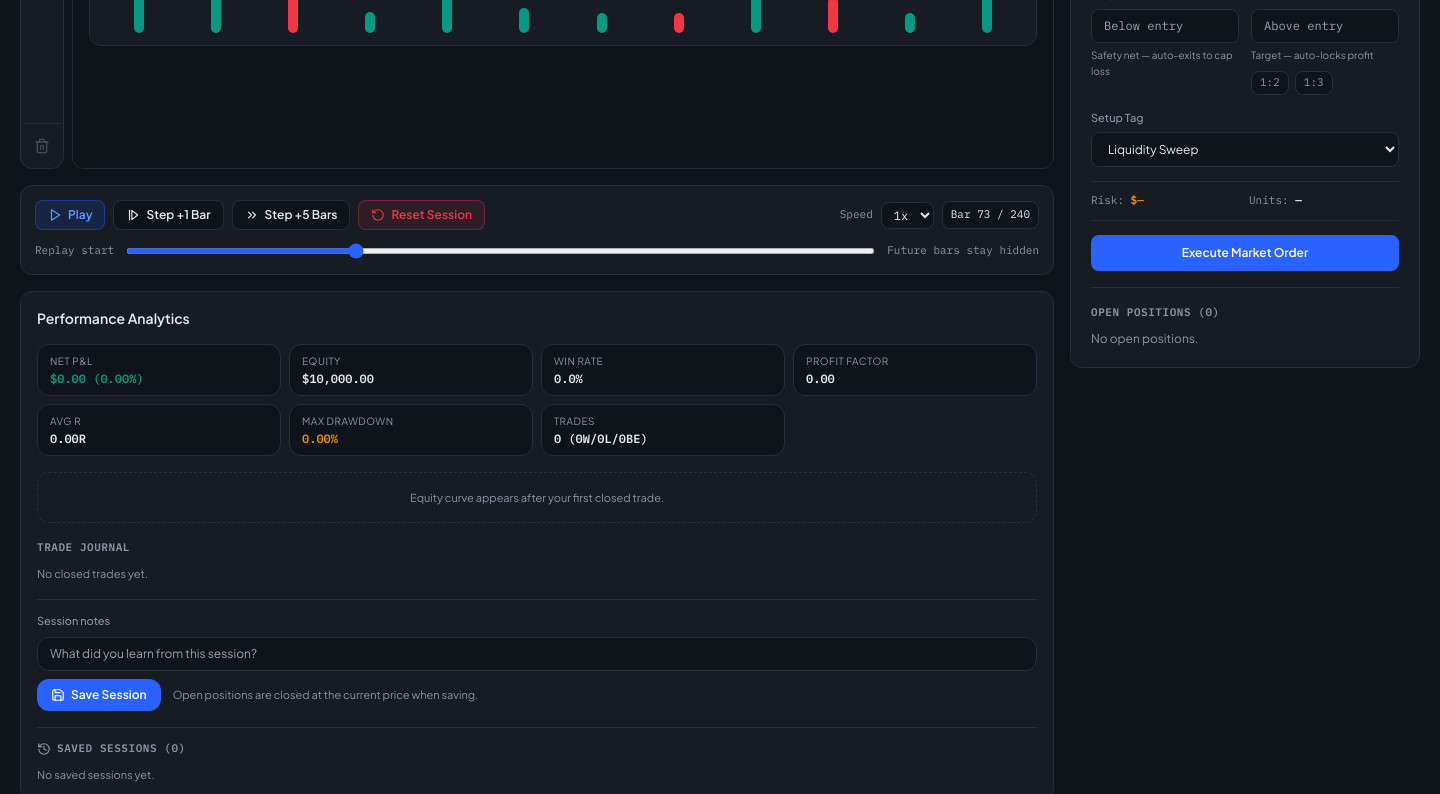
Test case: BacktestPage › refuses to save a session with no trades
(page scrolled)
Click the button "Save Session" at [99, 695], box left=37, top=679, right=161, bottom=711
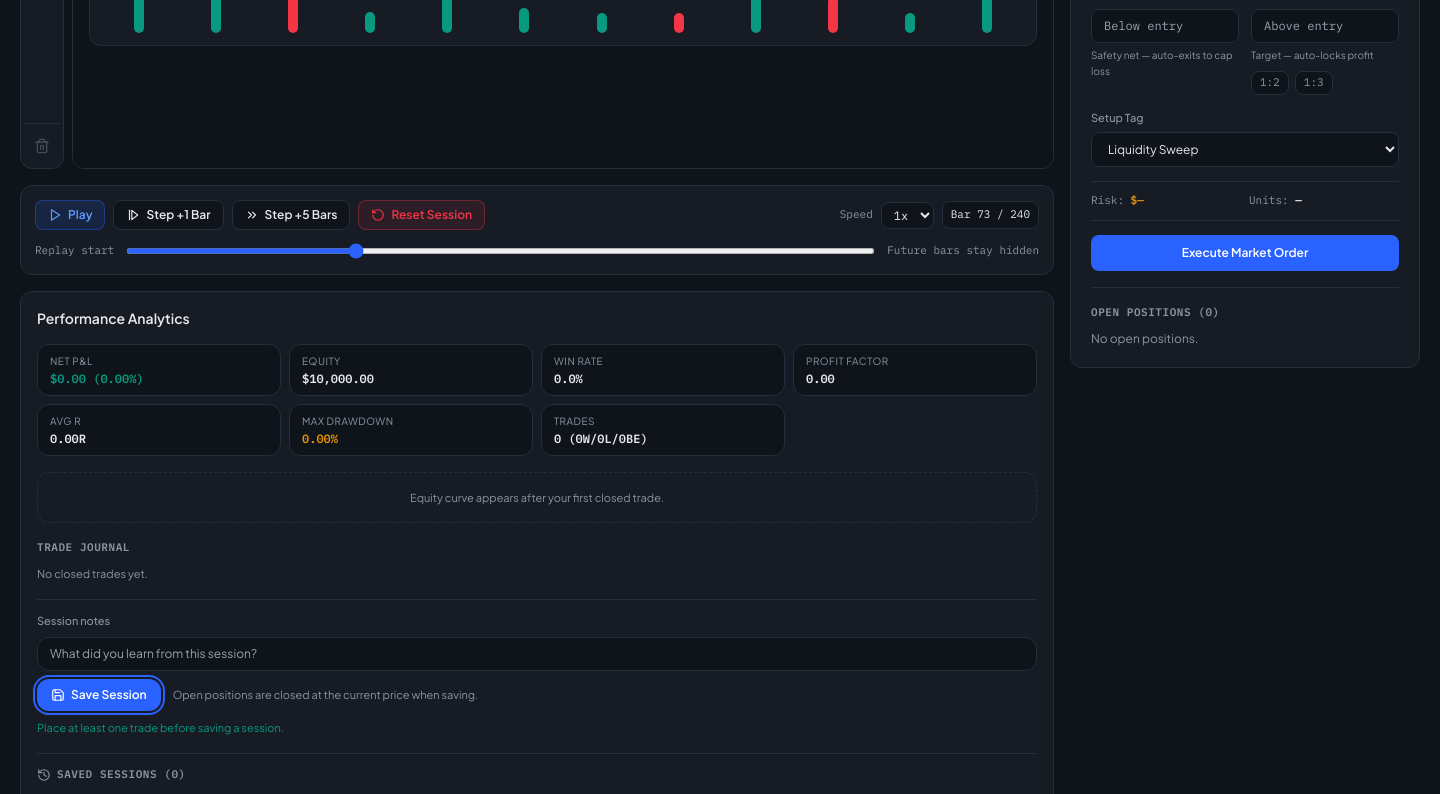
Expected: the text "Place at least one trade before saving a session." is shown, left=37, top=721, right=284, bottom=734
